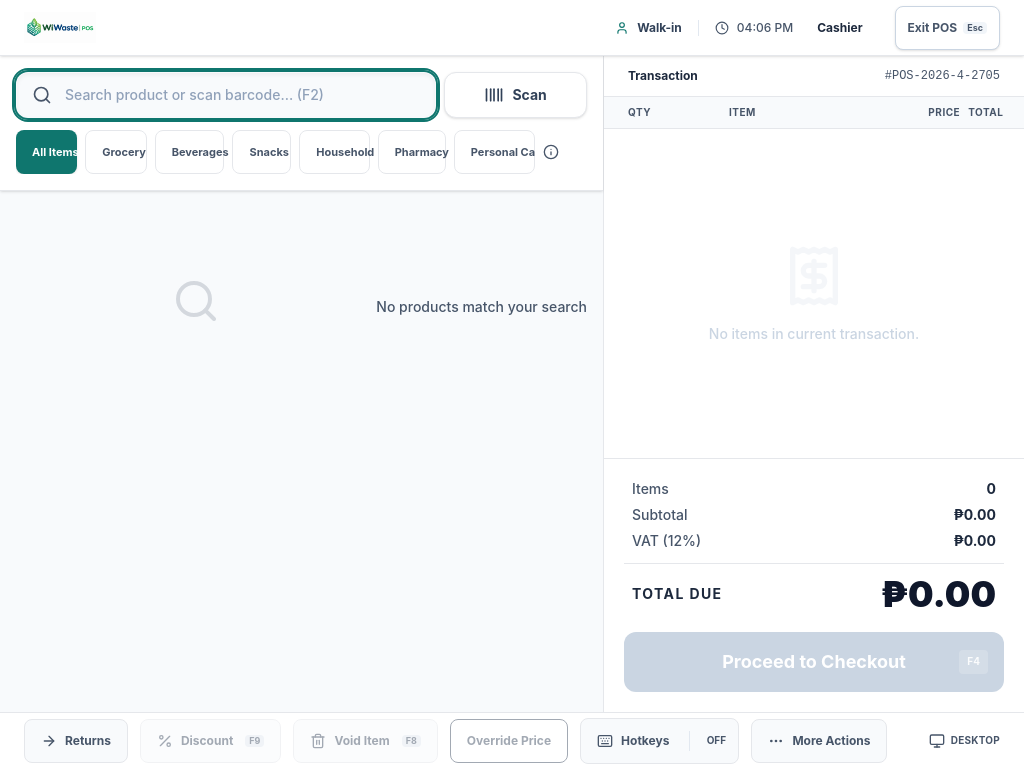
it: POS cart › adds a scanned product to the cart
Type "123456" into the field with placeholder "Search product or scan barcode... (F2)" at (226, 95), box [16,72,436,118]
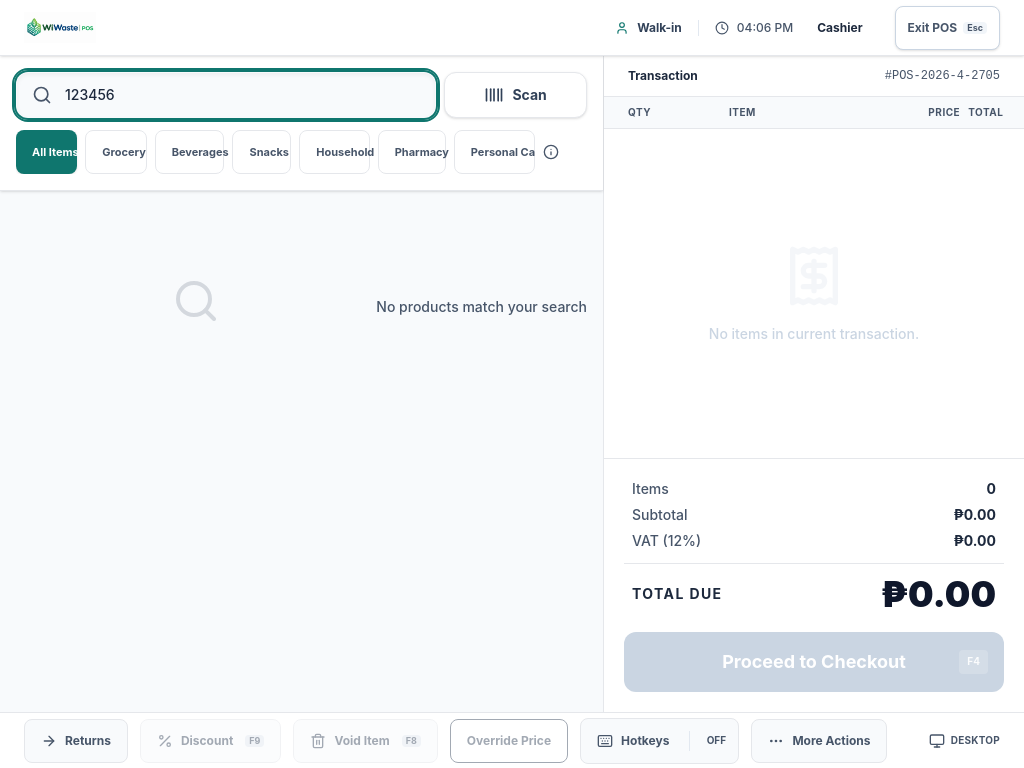
Press Enter in the field with placeholder "Search product or scan barcode... (F2)", box [16,72,436,118]
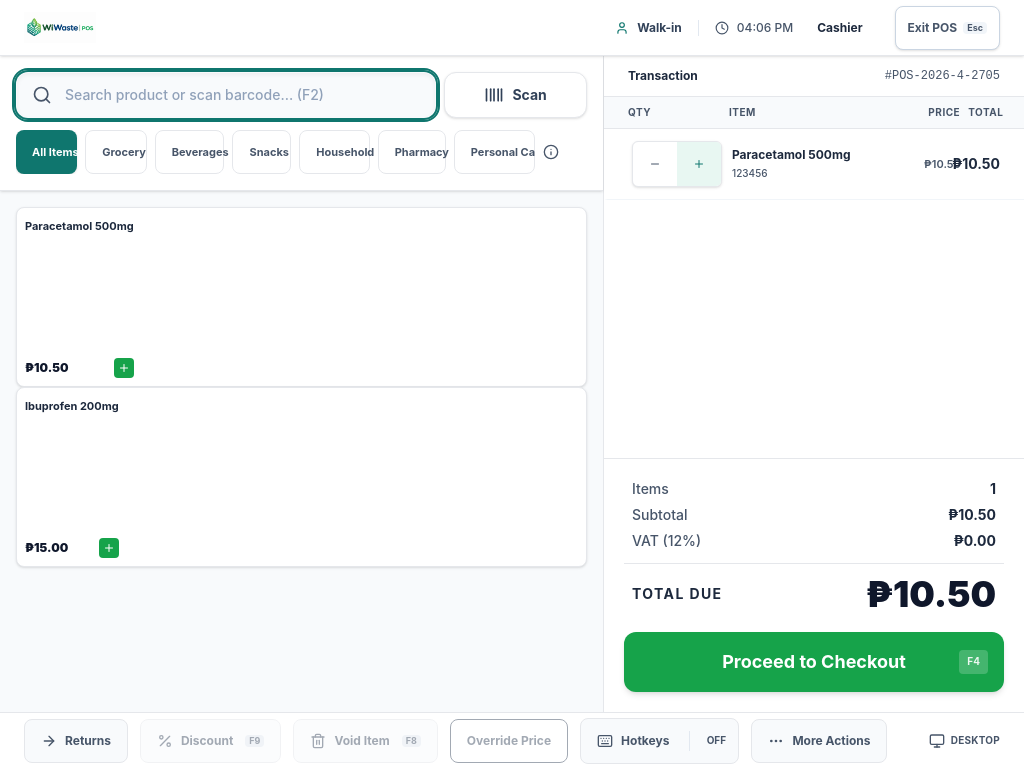
Check: the text "No items in current transaction." is gone
Check: the element showing "1" is shown, box [604,129,1023,200]
